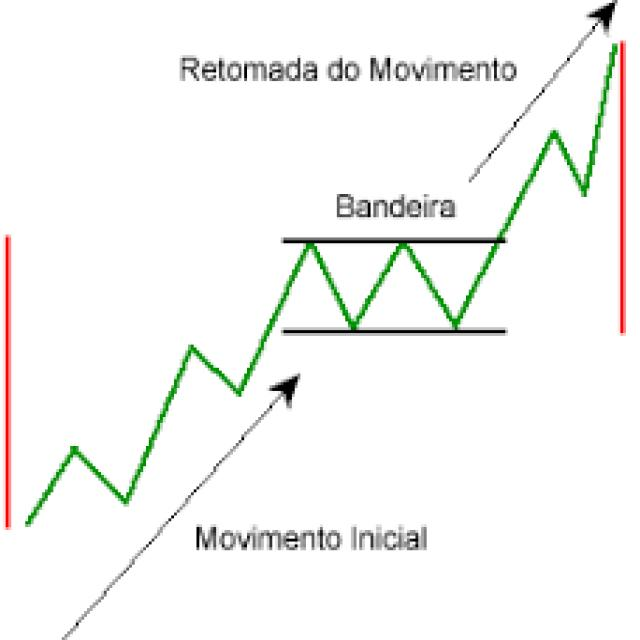bandeira_alta: (69, 110, 501, 530)
